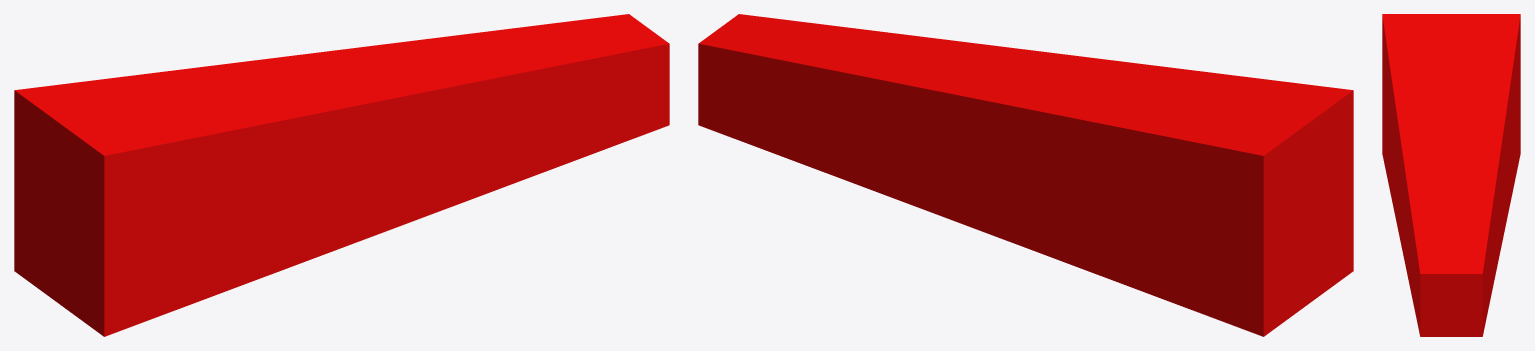
Rendered from phys_player_forearm_red.glb.
3 views of the same model, side by side, from view 1: azimuth 30°, elevation 25°; view 2: azimuth 150°, elevation 25°; view 3: azimuth 270°, elevation 25° (orthographic). The views are drawn at different scales.
Visible parts, largest first — view 1: Cube.003; view 2: Cube.003; view 3: Cube.003.
Part boxes in pixels (<box>): Cube.003: <box>14,14,669,336</box>; Cube.003: <box>698,14,1353,336</box>; Cube.003: <box>1382,14,1520,336</box>.
Size of the model in its own units: 1.93 by 0.5667 by 0.5098.
